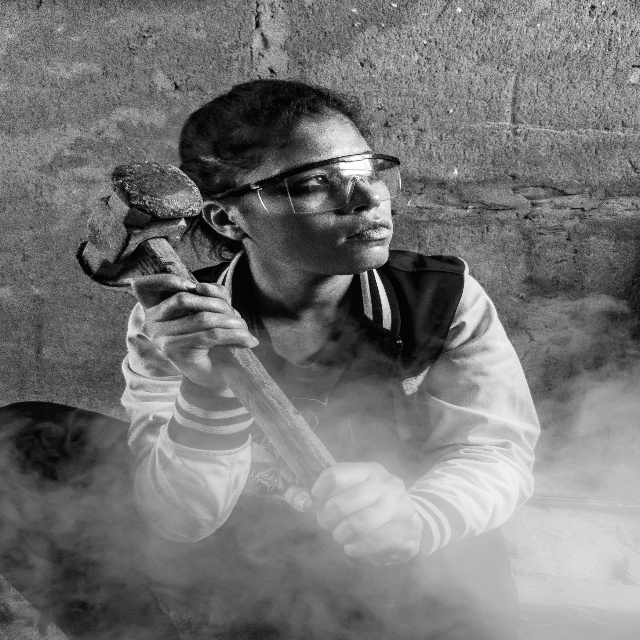Gafas: (214, 150, 403, 215)
Sin_guantes: (129, 268, 259, 391), (284, 462, 424, 567)
